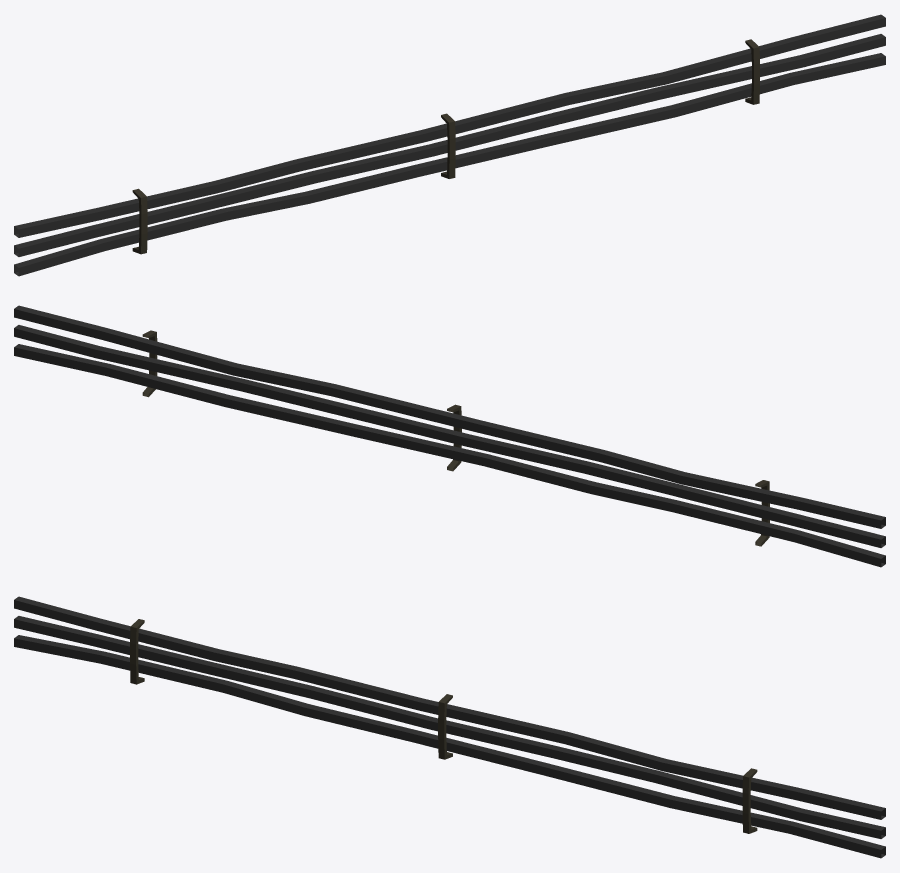
Rendered from SW_ENV_Wires3_FlatWall_4-25m.fbx.
3 views of the same model, one above another, from view 1: azimuth 30°, elevation 25°; view 2: azimuth 150°, elevation 25°; view 3: azimuth 330°, elevation 25° (orthographic).
Visible parts, largest first — view 1: SW_ENV_Wires3_FlatWall_4-25m; view 2: SW_ENV_Wires3_FlatWall_4-25m; view 3: SW_ENV_Wires3_FlatWall_4-25m.
Boxes of the visible parts, x1=… form: SW_ENV_Wires3_FlatWall_4-25m: x1=14, y1=14, x2=885, y2=276; SW_ENV_Wires3_FlatWall_4-25m: x1=14, y1=305, x2=885, y2=567; SW_ENV_Wires3_FlatWall_4-25m: x1=14, y1=596, x2=885, y2=858.
Bounding box in the file's own units: 425 × 28.66 × 7.36.
